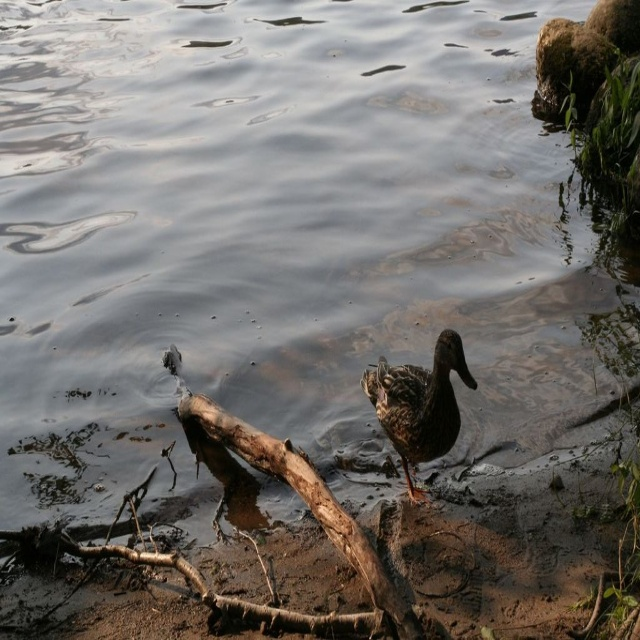Duck: (360, 324, 483, 503)
